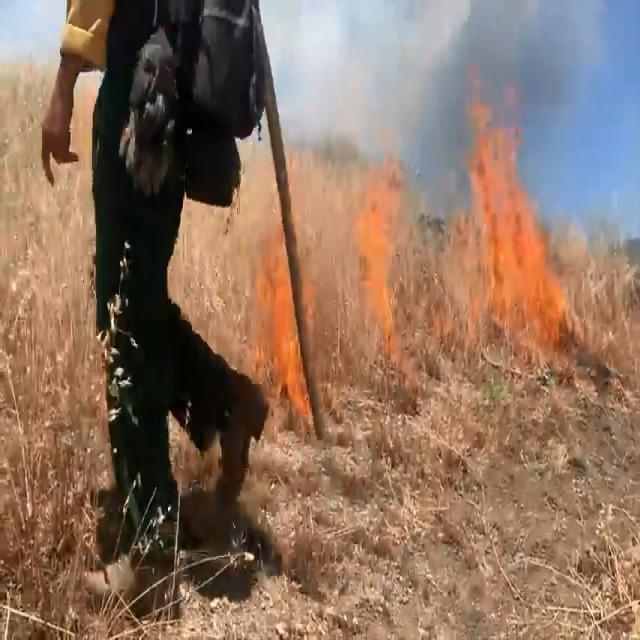Fire: (260, 88, 572, 417)
